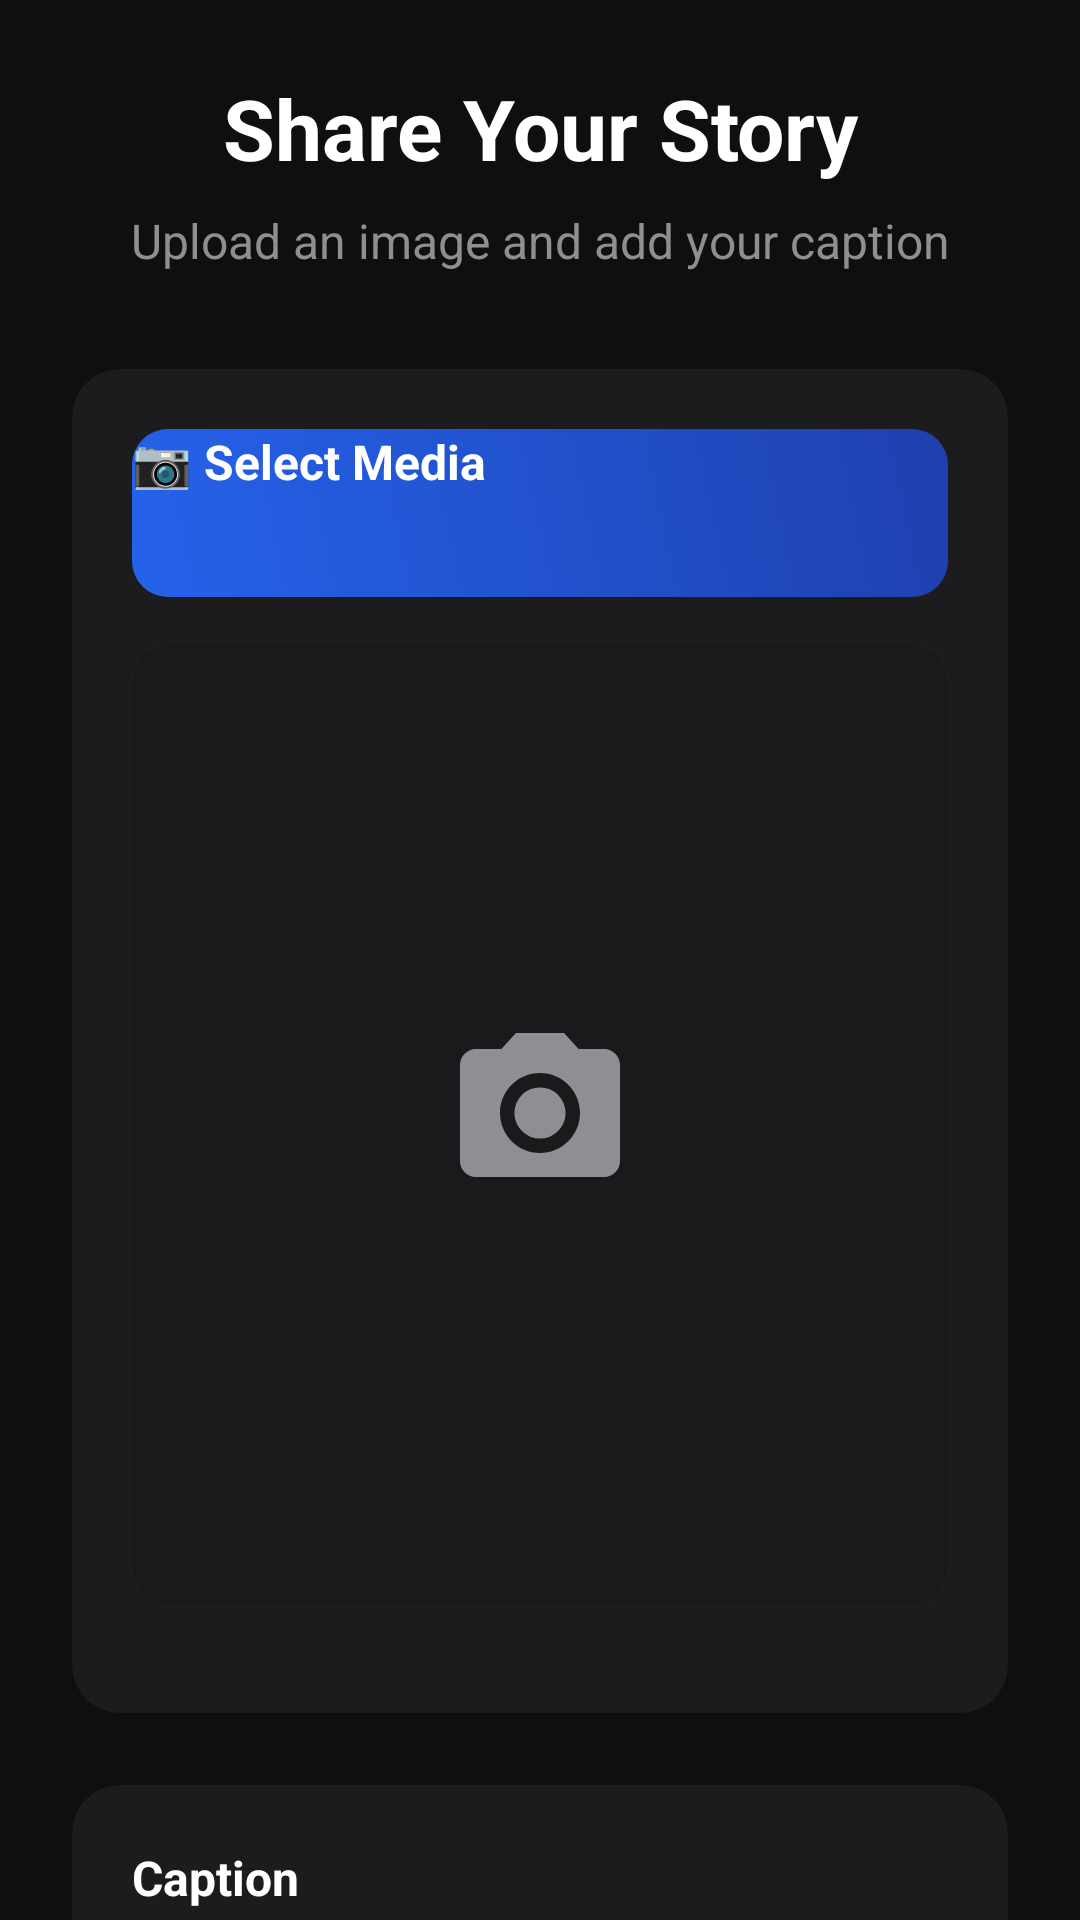

Named icons in this screenshot (1080 x 1920) and their centers, [x,y]:
camera: [540,1105]
